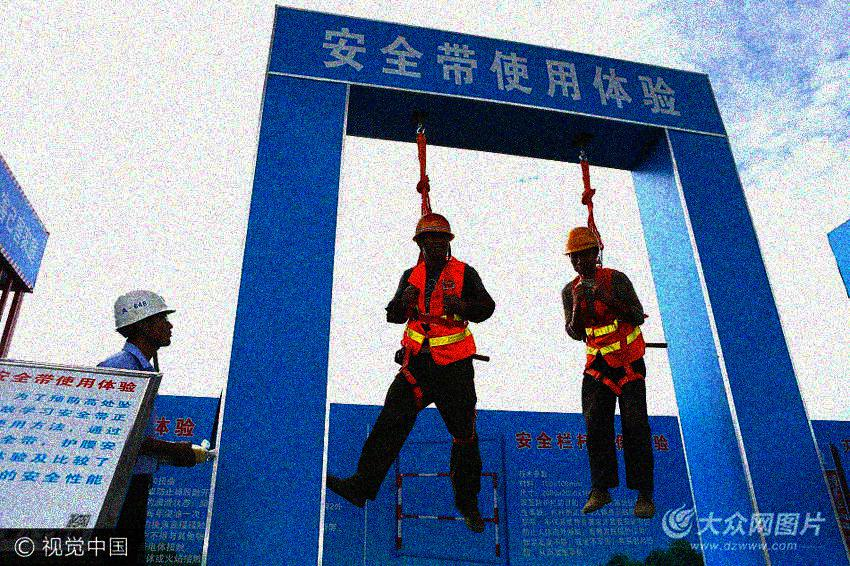helmet: (114, 290, 179, 349), (409, 213, 455, 257), (562, 228, 602, 277)
